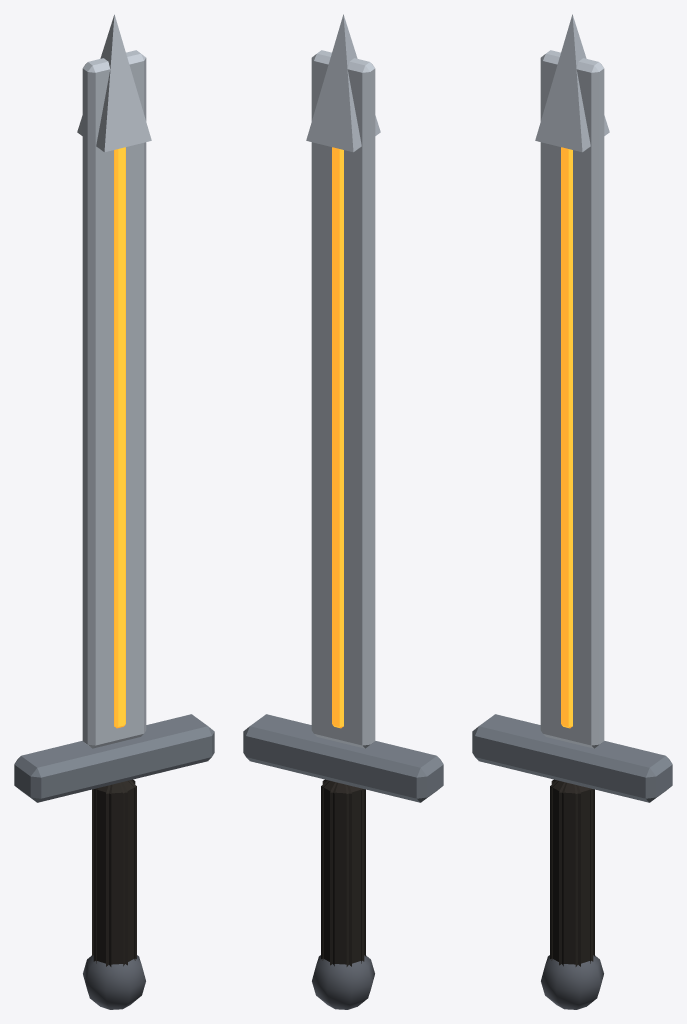
The model's file is power_sword.glb.
The picture shows the model from 3 angles, left to right: view 1: azimuth 30°, elevation 25°; view 2: azimuth 150°, elevation 25°; view 3: azimuth 330°, elevation 25°; orthographic projection.
Parts seen in each view (by area): view 1: weapon.power_sword; view 2: weapon.power_sword; view 3: weapon.power_sword.
Boxes of the visible parts, left/top/right/bottom form: weapon.power_sword: left=14, top=14, right=214, bottom=1009; weapon.power_sword: left=243, top=14, right=443, bottom=1009; weapon.power_sword: left=472, top=14, right=672, bottom=1009.
Size of the model in its own units: 0.2134 by 1.1 by 0.0659.
